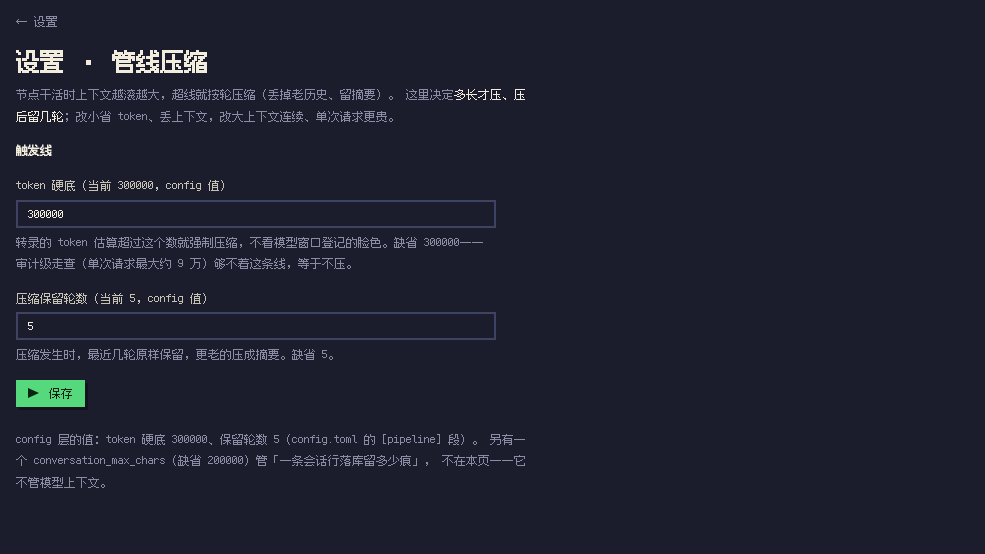
Test case: SettingsCompaction › 非正整数本地先拦：不交出去、报错不静默
Replace the text in the number field labelled "token 硬底（当前 300000，config 值）" with "0": (256, 214) [16, 200, 496, 228]
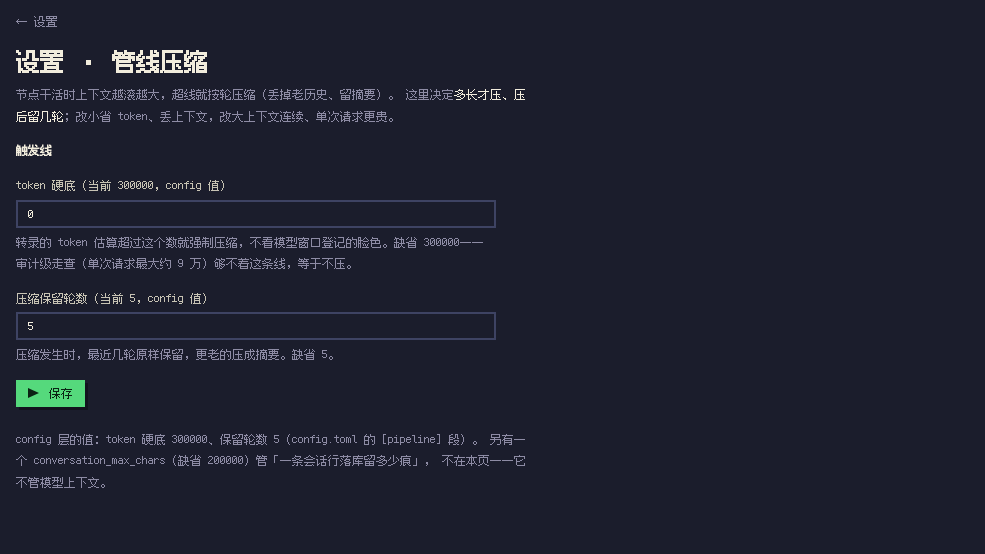
Submit the form named "保存", box [16, 144, 496, 407]
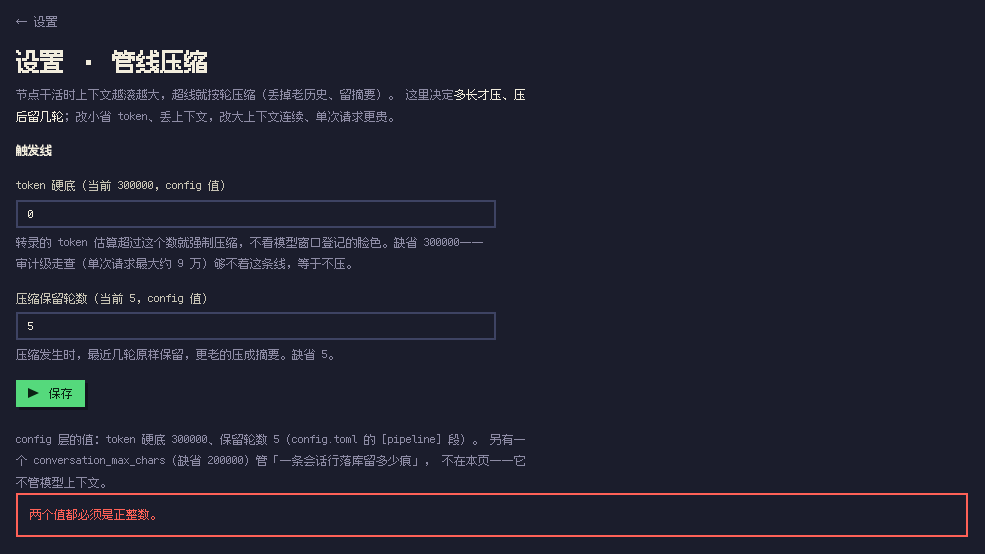
Result: the message shows "正整数" at [16, 494, 968, 537]
